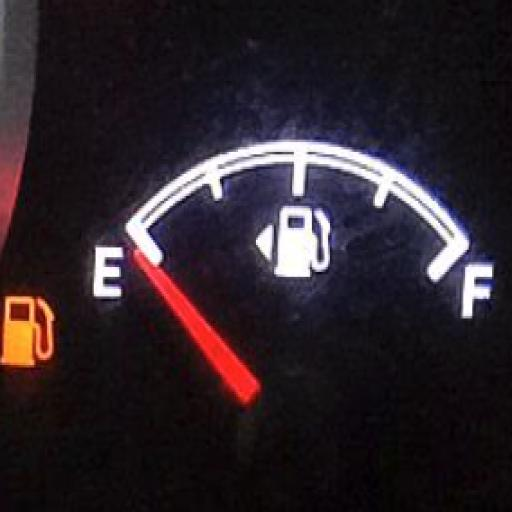empty: (92, 240, 124, 302)
fuel_icon: (274, 200, 332, 286), (3, 293, 55, 368)
full: (460, 260, 494, 319)
guage_area: (66, 68, 512, 512)
needle_center: (232, 376, 361, 508)
needle_tip: (132, 246, 182, 303)
